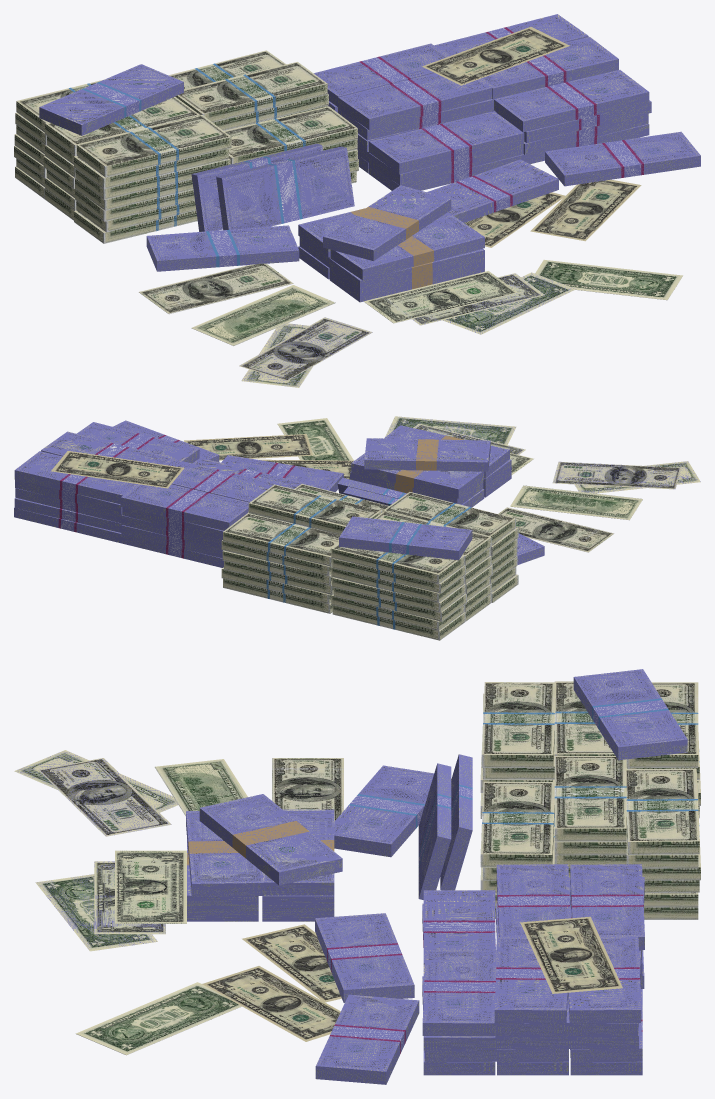
File: Dollars.fbx
3 renders of one model, top to bottom at view 1: azimuth 30°, elevation 25°; view 2: azimuth 150°, elevation 25°; view 3: azimuth 270°, elevation 25°, orthographic. The views are drawn at different scales.
Parts seen in each view (by area): view 1: _100_bill_stack41, _20_bill_stack4, _20_bill_stack13, _20_bill_stack3, _100_bill_stack30, _100_bill_stack42, _100_bill_stack43, _1_bill_stack7, _100_bill_stack18, _20_bill_stack6, _100_front_back1, _100_bill_stack15 (+33 smaller); view 2: _100_bill_stack43, _1_bill_stack7, _20_bill_stack27, _100_front_back1, _100_bill_stack16, _100_bill_stack18, _100_bill_stack30, _100_bill2, _20_bill3, _20_bill_stack28, _100_bill_stack37, _1_bill_stack6 (+37 smaller); view 3: _1_bill_stack7, _100_front_back1, _100_bill_stack43, _20_bill_stack4, _20_bill_stack29, _100_bill_stack30, _20_bill_stack13, _100_bill_stack16, _100_bill_stack18, _100_bill_stack15, _100_bill_stack42, _1_bill1 (+41 smaller).
Part boxes in pixels (<box>): _100_bill_stack41: <box>216,146,354,230</box>; _20_bill_stack4: <box>545,131,700,186</box>; _20_bill_stack13: <box>494,70,649,132</box>; _20_bill_stack3: <box>369,111,524,174</box>; _100_bill_stack30: <box>76,115,231,177</box>; _100_bill_stack42: <box>146,225,299,271</box>; _100_bill_stack43: <box>39,64,183,135</box>; _1_bill_stack7: <box>323,185,451,260</box>; _100_bill_stack18: <box>175,62,327,122</box>; _20_bill_stack6: <box>338,73,492,129</box>; _100_front_back1: <box>239,317,372,387</box>; _100_bill_stack15: <box>224,106,357,164</box>; _100_bill_stack43: <box>339,516,472,560</box>; _1_bill_stack7: <box>364,438,490,471</box>; _20_bill_stack27: <box>120,484,249,530</box>; _100_front_back1: <box>552,461,700,493</box>; _100_bill_stack16: <box>223,513,340,566</box>; _100_bill_stack18: <box>248,484,381,534</box>; _100_bill_stack30: <box>383,492,515,544</box>; _100_bill2: <box>510,485,642,520</box>; _20_bill3: <box>51,451,184,488</box>; _20_bill_stack28: <box>14,451,137,504</box>; _100_bill_stack37: <box>331,543,464,584</box>; _1_bill_stack6: <box>351,453,484,498</box>; _1_bill_stack7: <box>199,794,342,885</box>; _100_front_back1: <box>14,750,178,836</box>; _100_bill_stack43: <box>573,669,687,760</box>; _20_bill_stack4: <box>315,994,419,1084</box>; _20_bill_stack29: <box>315,913,414,1002</box>; _100_bill_stack30: <box>481,682,556,768</box>; _20_bill_stack13: <box>422,950,496,1036</box>; _100_bill_stack16: <box>626,768,699,854</box>; _100_bill_stack18: <box>554,756,626,841</box>; _100_bill_stack15: <box>480,781,554,867</box>; _100_bill_stack42: <box>334,765,434,857</box>; _1_bill1: <box>115,850,186,923</box>.
Bounding box in the file's own units: 0.7006 × 0.1337 × 0.6073.
